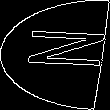N_E: (5, 33, 105, 77)
